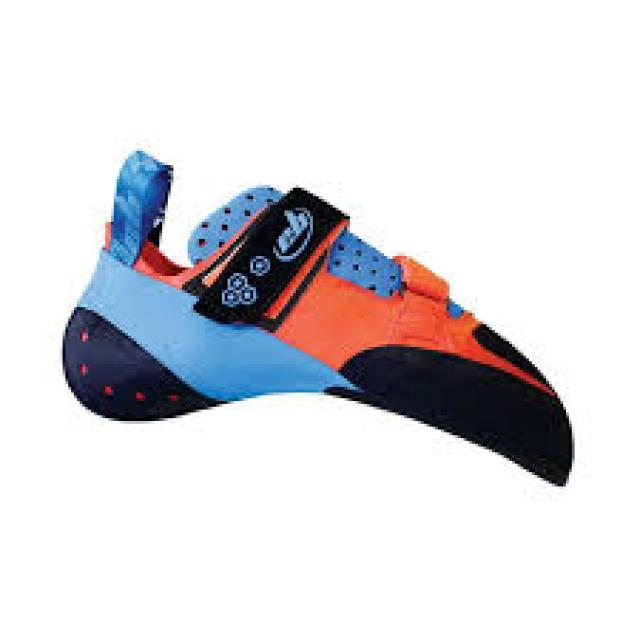climbing-shoes: (60, 150, 578, 490)
